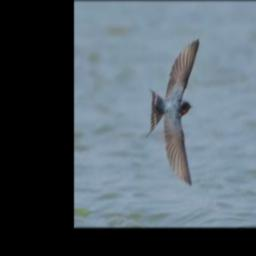Swallow: (143, 39, 199, 186)
